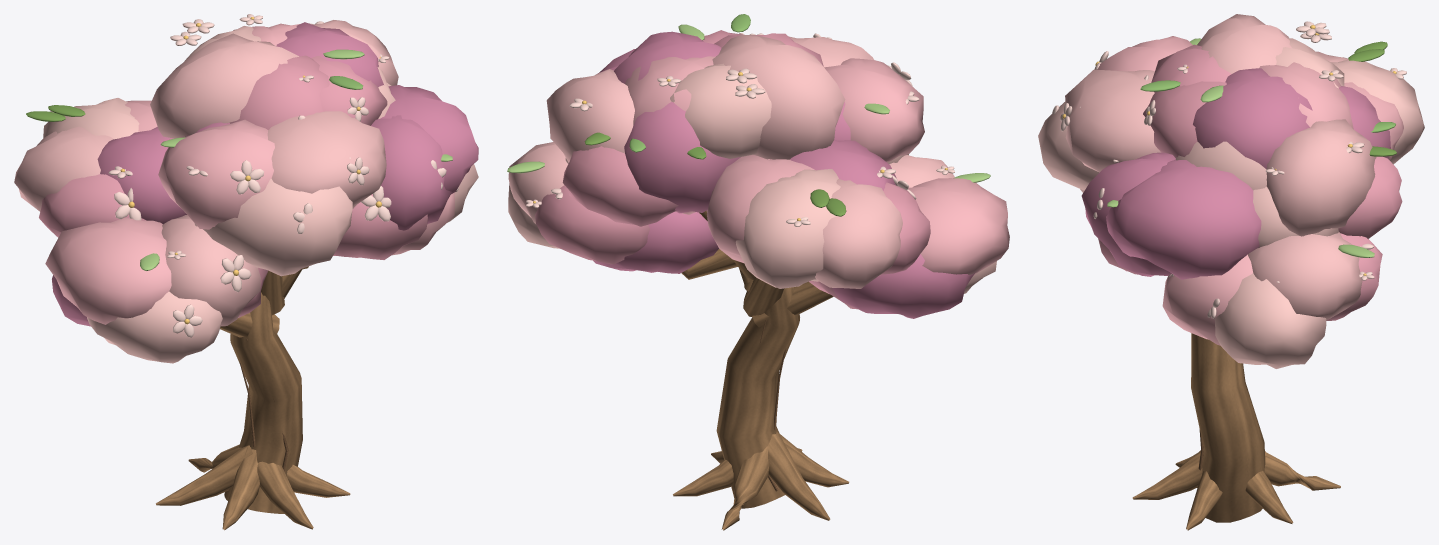
File: blossom.glb
3 views of the same model, side by side, from view 1: azimuth 30°, elevation 25°; view 2: azimuth 150°, elevation 25°; view 3: azimuth 270°, elevation 25° (orthographic). The views are drawn at different scales.
Parts seen in each view (by area): view 1: blossom; view 2: blossom; view 3: blossom.
Boxes of the visible parts, x1,y1,x2,y2 form: blossom: (14, 14, 478, 530); blossom: (507, 14, 1009, 530); blossom: (1038, 14, 1424, 530).
Size of the model in its own units: 3.49 by 3.51 by 2.58.
12 materials, 2 textured.
